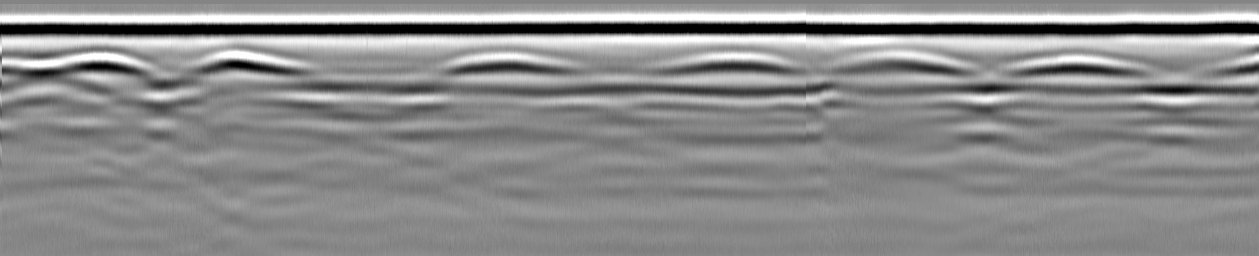steel: (1009, 45, 1150, 81), (839, 48, 972, 85), (671, 47, 801, 80), (192, 46, 308, 81), (455, 45, 570, 78), (55, 47, 160, 83)
